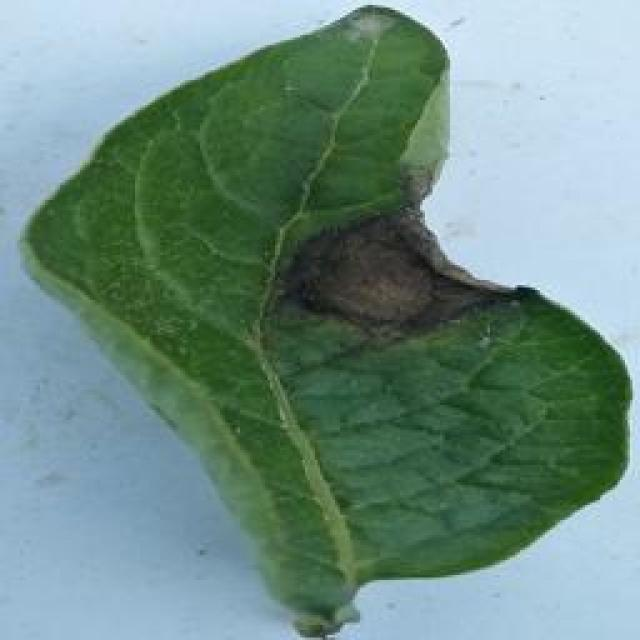Potato_Late_Blight: (21, 9, 623, 635)
